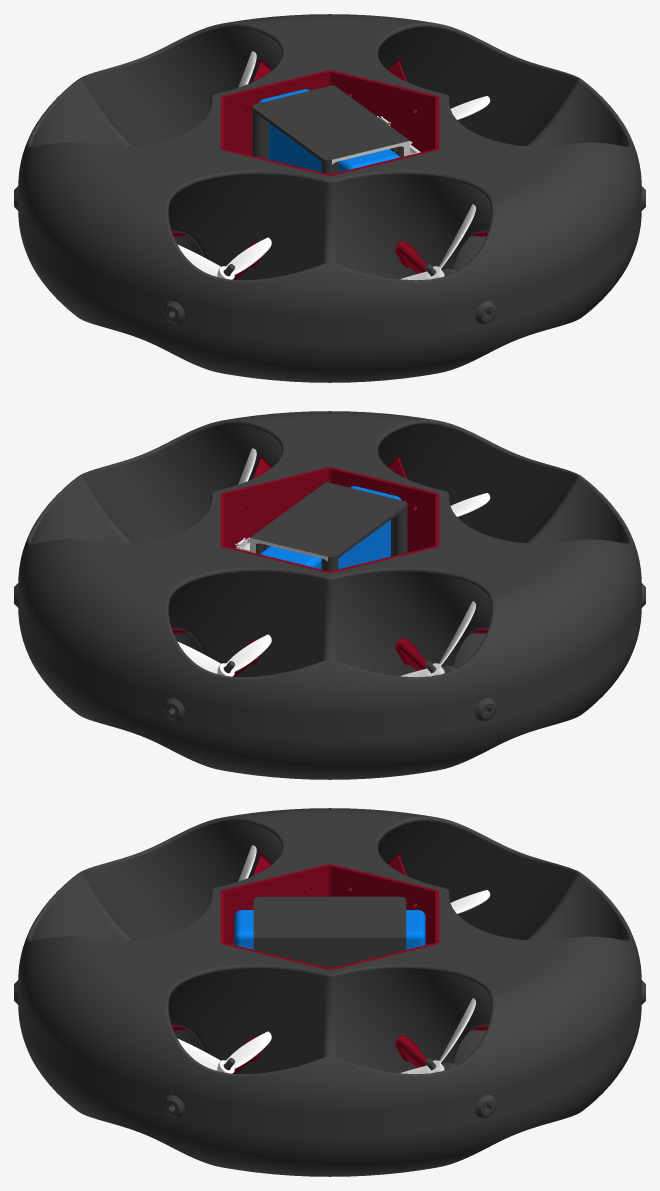
The model's file is Space Cobot.glb.
3 views of the same model, one above another, from view 1: azimuth 30°, elevation 25°; view 2: azimuth 150°, elevation 25°; view 3: azimuth 270°, elevation 25° (orthographic).
Visible parts, largest first — view 1: Base 6th (×6), Solid1 (×4), Center; view 2: Base 6th (×6), Solid1 (×4), Center; view 3: Base 6th (×6), Solid1 (×4), Center.
Boxes of the visible parts, x1=… form: Base 6th (×6): x1=14, y1=14, x2=645, y2=382; Solid1 (×4): x1=177, y1=85, x2=475, y2=280; Center: x1=220, y1=70, x2=439, y2=175; Base 6th (×6): x1=14, y1=411, x2=645, y2=779; Solid1 (×4): x1=177, y1=482, x2=475, y2=677; Center: x1=220, y1=467, x2=439, y2=572; Base 6th (×6): x1=14, y1=808, x2=645, y2=1176; Solid1 (×4): x1=177, y1=896, x2=475, y2=1074; Center: x1=220, y1=864, x2=439, y2=969.
Size of the model in its own units: 0.45 by 0.128 by 0.456.
